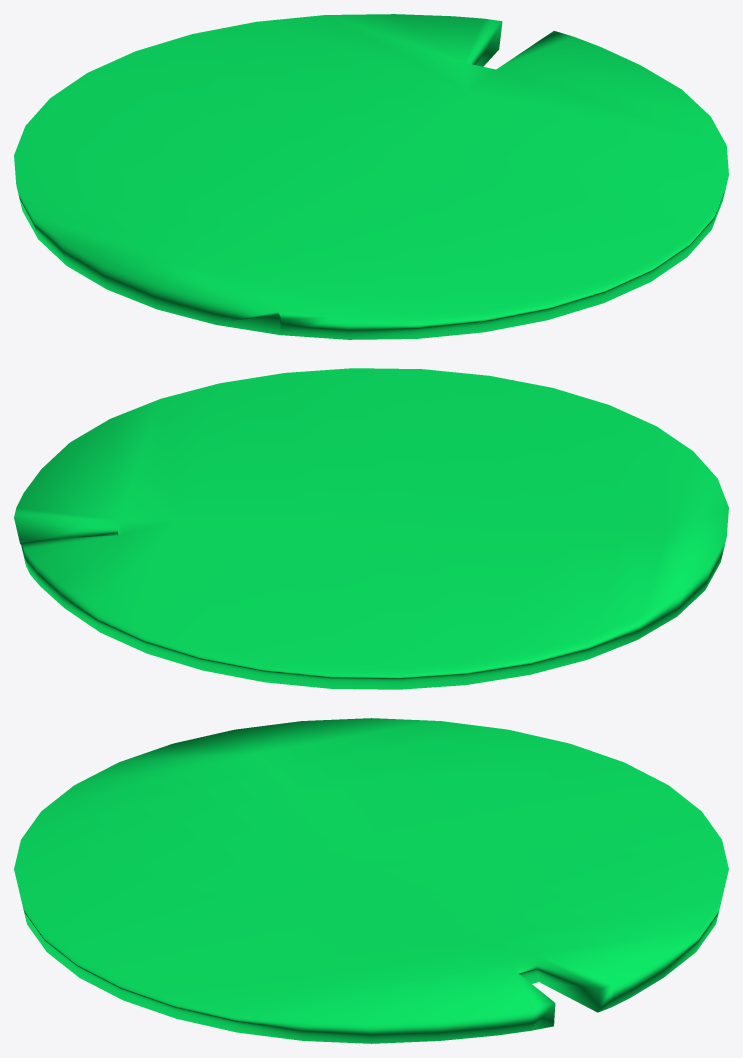
File: Barrel_01_Lid.fbx
3 views of the same model, one above another, from view 1: azimuth 30°, elevation 25°; view 2: azimuth 150°, elevation 25°; view 3: azimuth 270°, elevation 25° (orthographic).
Visible parts, largest first — view 1: Barrel_01_Lid; view 2: Barrel_01_Lid; view 3: Barrel_01_Lid.
Boxes of the visible parts, bbox=[...] form: Barrel_01_Lid: bbox=[14, 14, 728, 339]; Barrel_01_Lid: bbox=[14, 368, 728, 689]; Barrel_01_Lid: bbox=[14, 718, 728, 1043].
Bounding box in the file's own units: 53.31 × 2.28 × 53.31.
